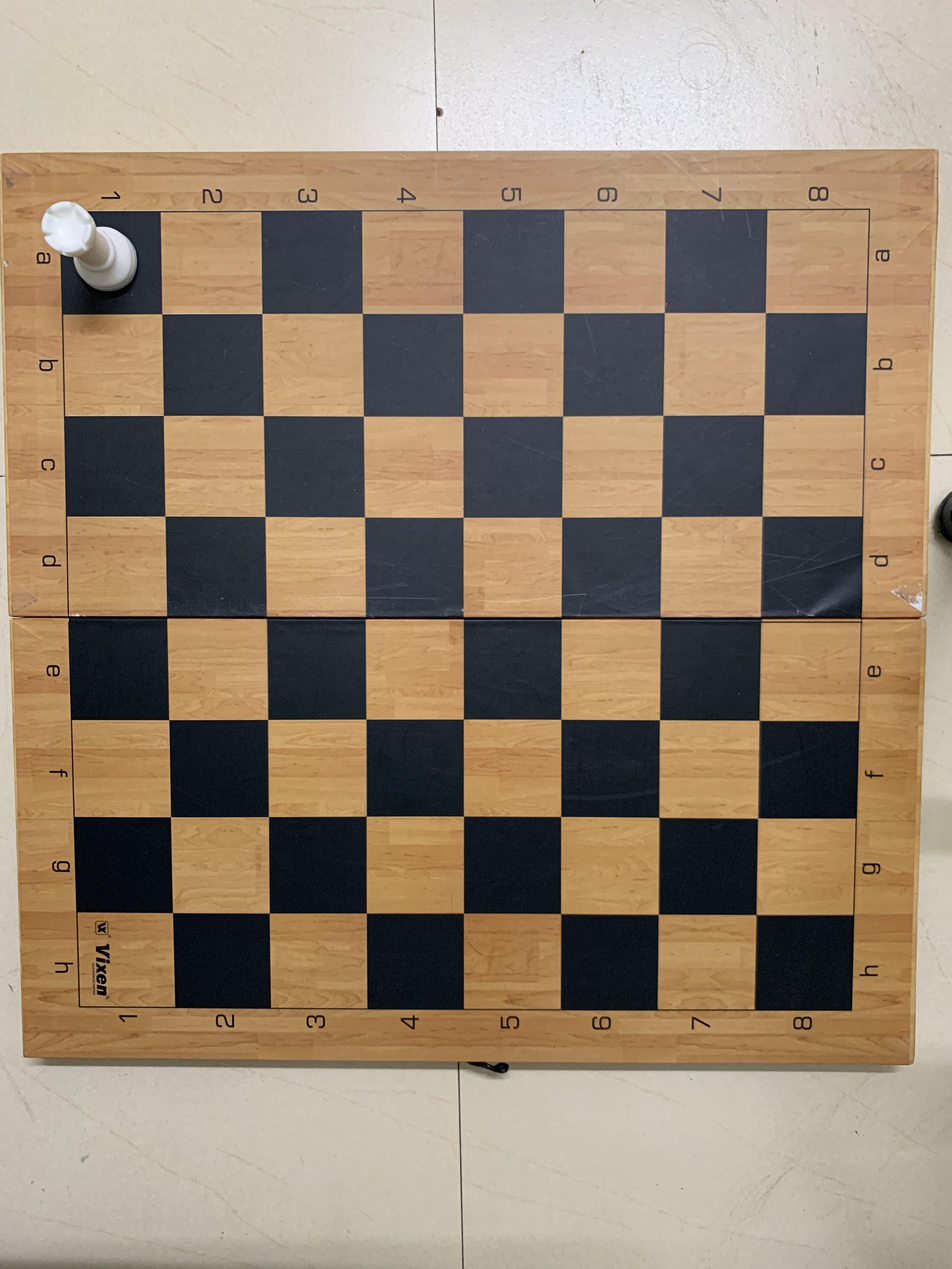white_rook: (42, 205, 161, 315)
